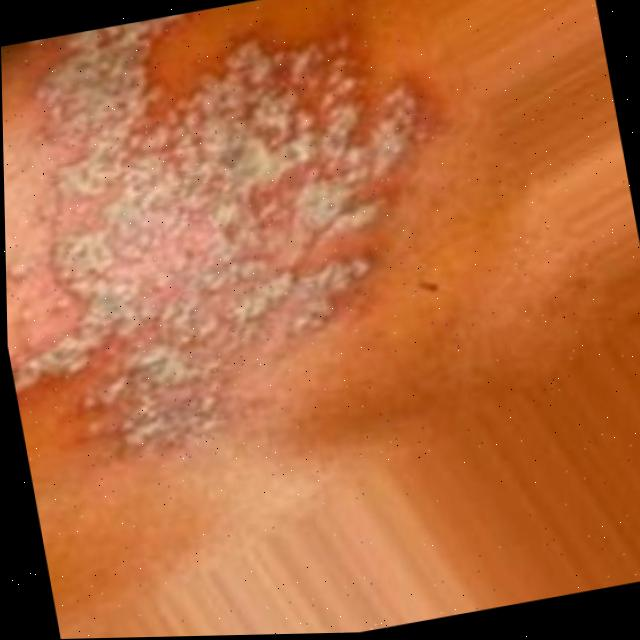Shingles: (0, 0, 430, 461)
